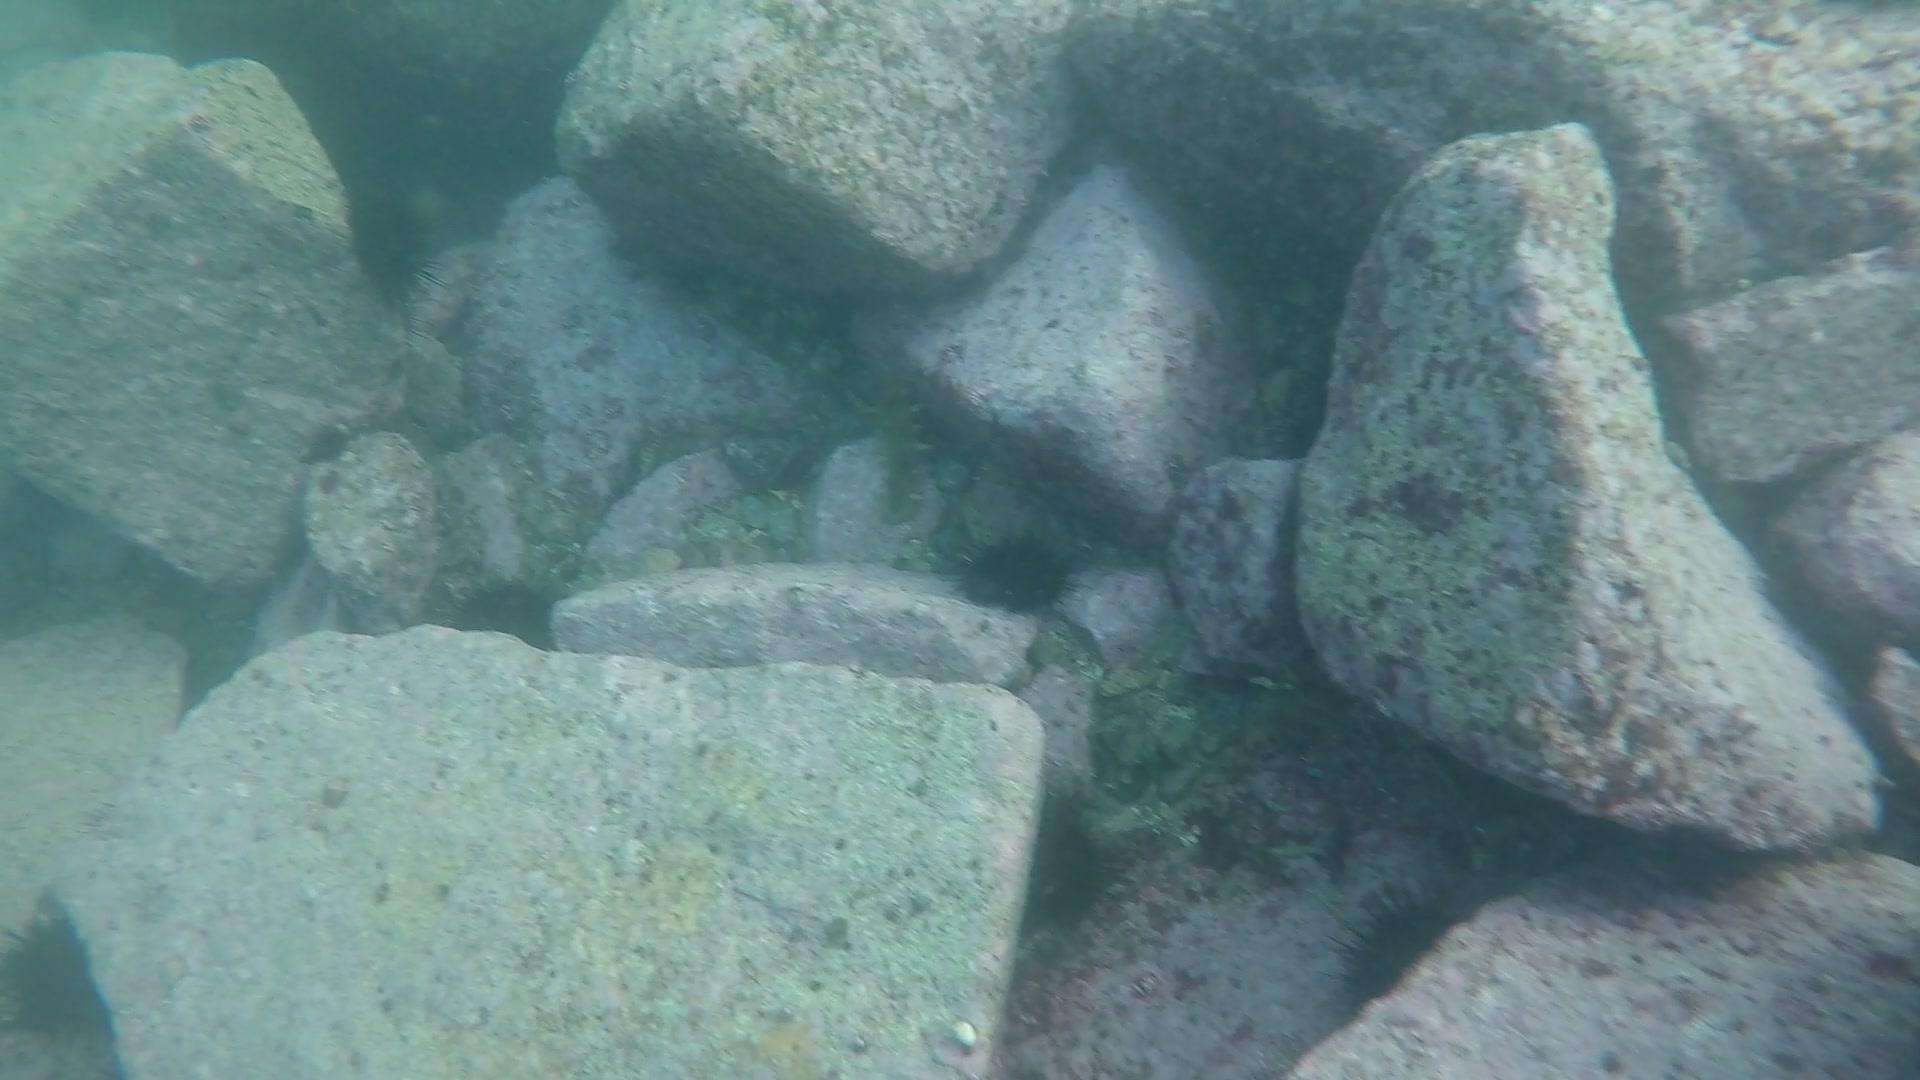echinus: (323, 179, 458, 326), (1321, 884, 1460, 1007), (4, 916, 123, 1048), (945, 530, 1077, 633), (1026, 786, 1108, 944), (448, 570, 572, 655)
holothurian: (855, 359, 949, 533)
